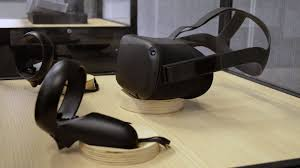oculus: (116, 33, 225, 101)
